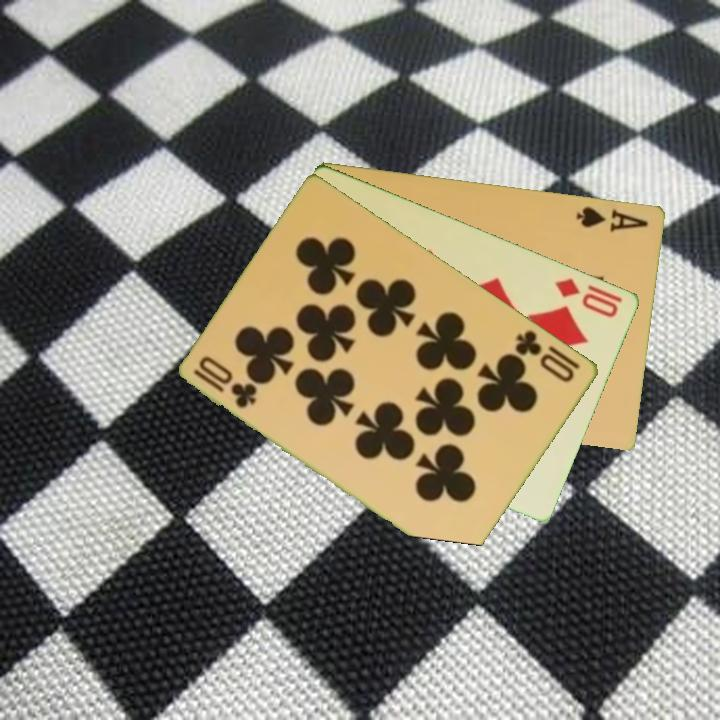10c: (512, 326, 578, 385), (190, 365, 261, 412)
10d: (552, 274, 626, 321)
As: (573, 202, 651, 235)
